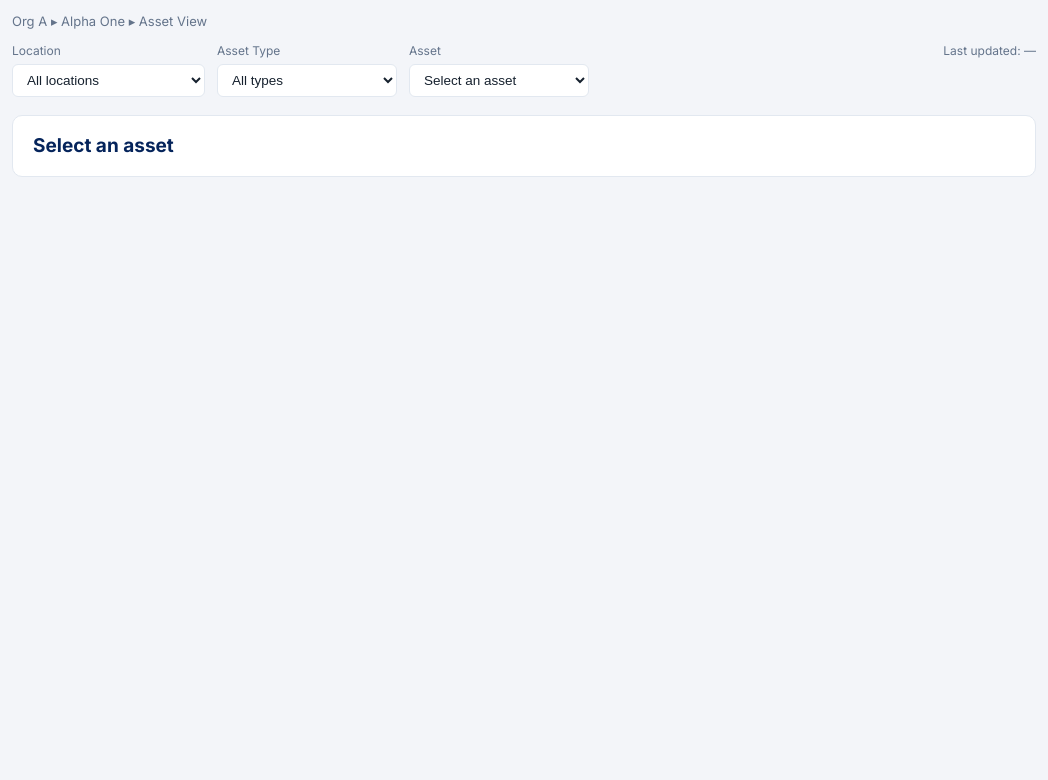
Test: AssetView › fetches the REST snapshot, opens a WebSocket to the correct asset URL, and renders the snapshot
Select "AHU 01" in the dropdown with test id "filter-asset" at (499, 80), box [409,64,589,96]
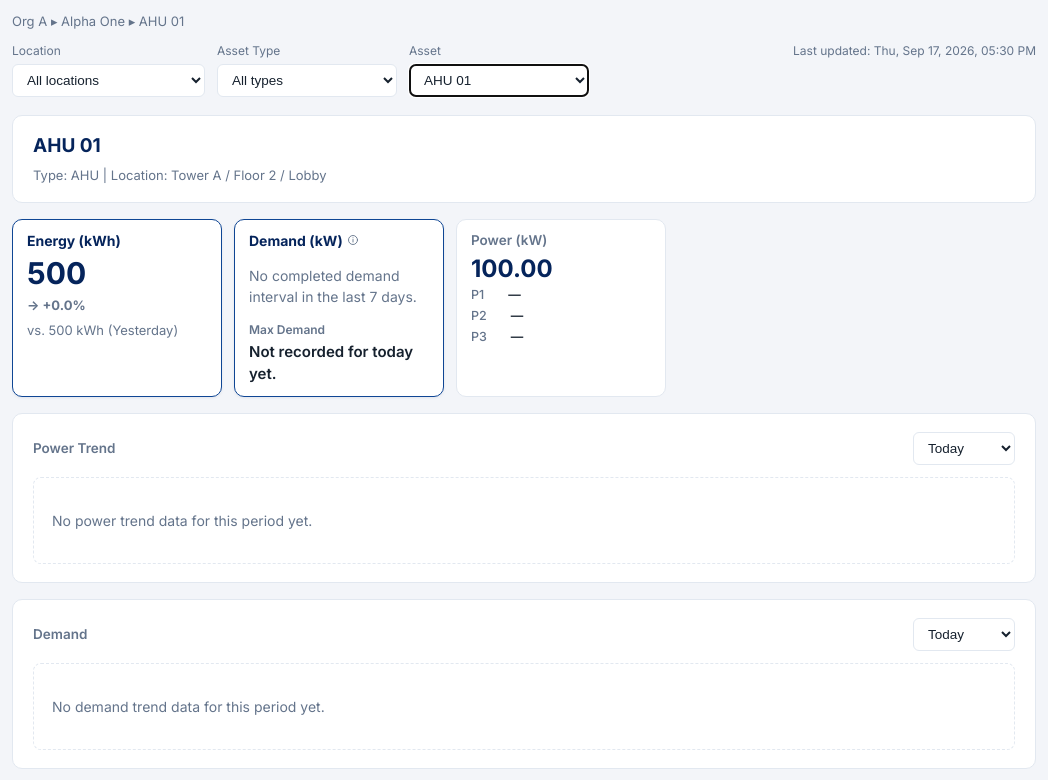
Now the element with test id "live-param-active_power" shows "100.00", box [471,254,553,283]
Now the element with test id "asset-energy-tile" shows "500", box [27,254,86,290]
